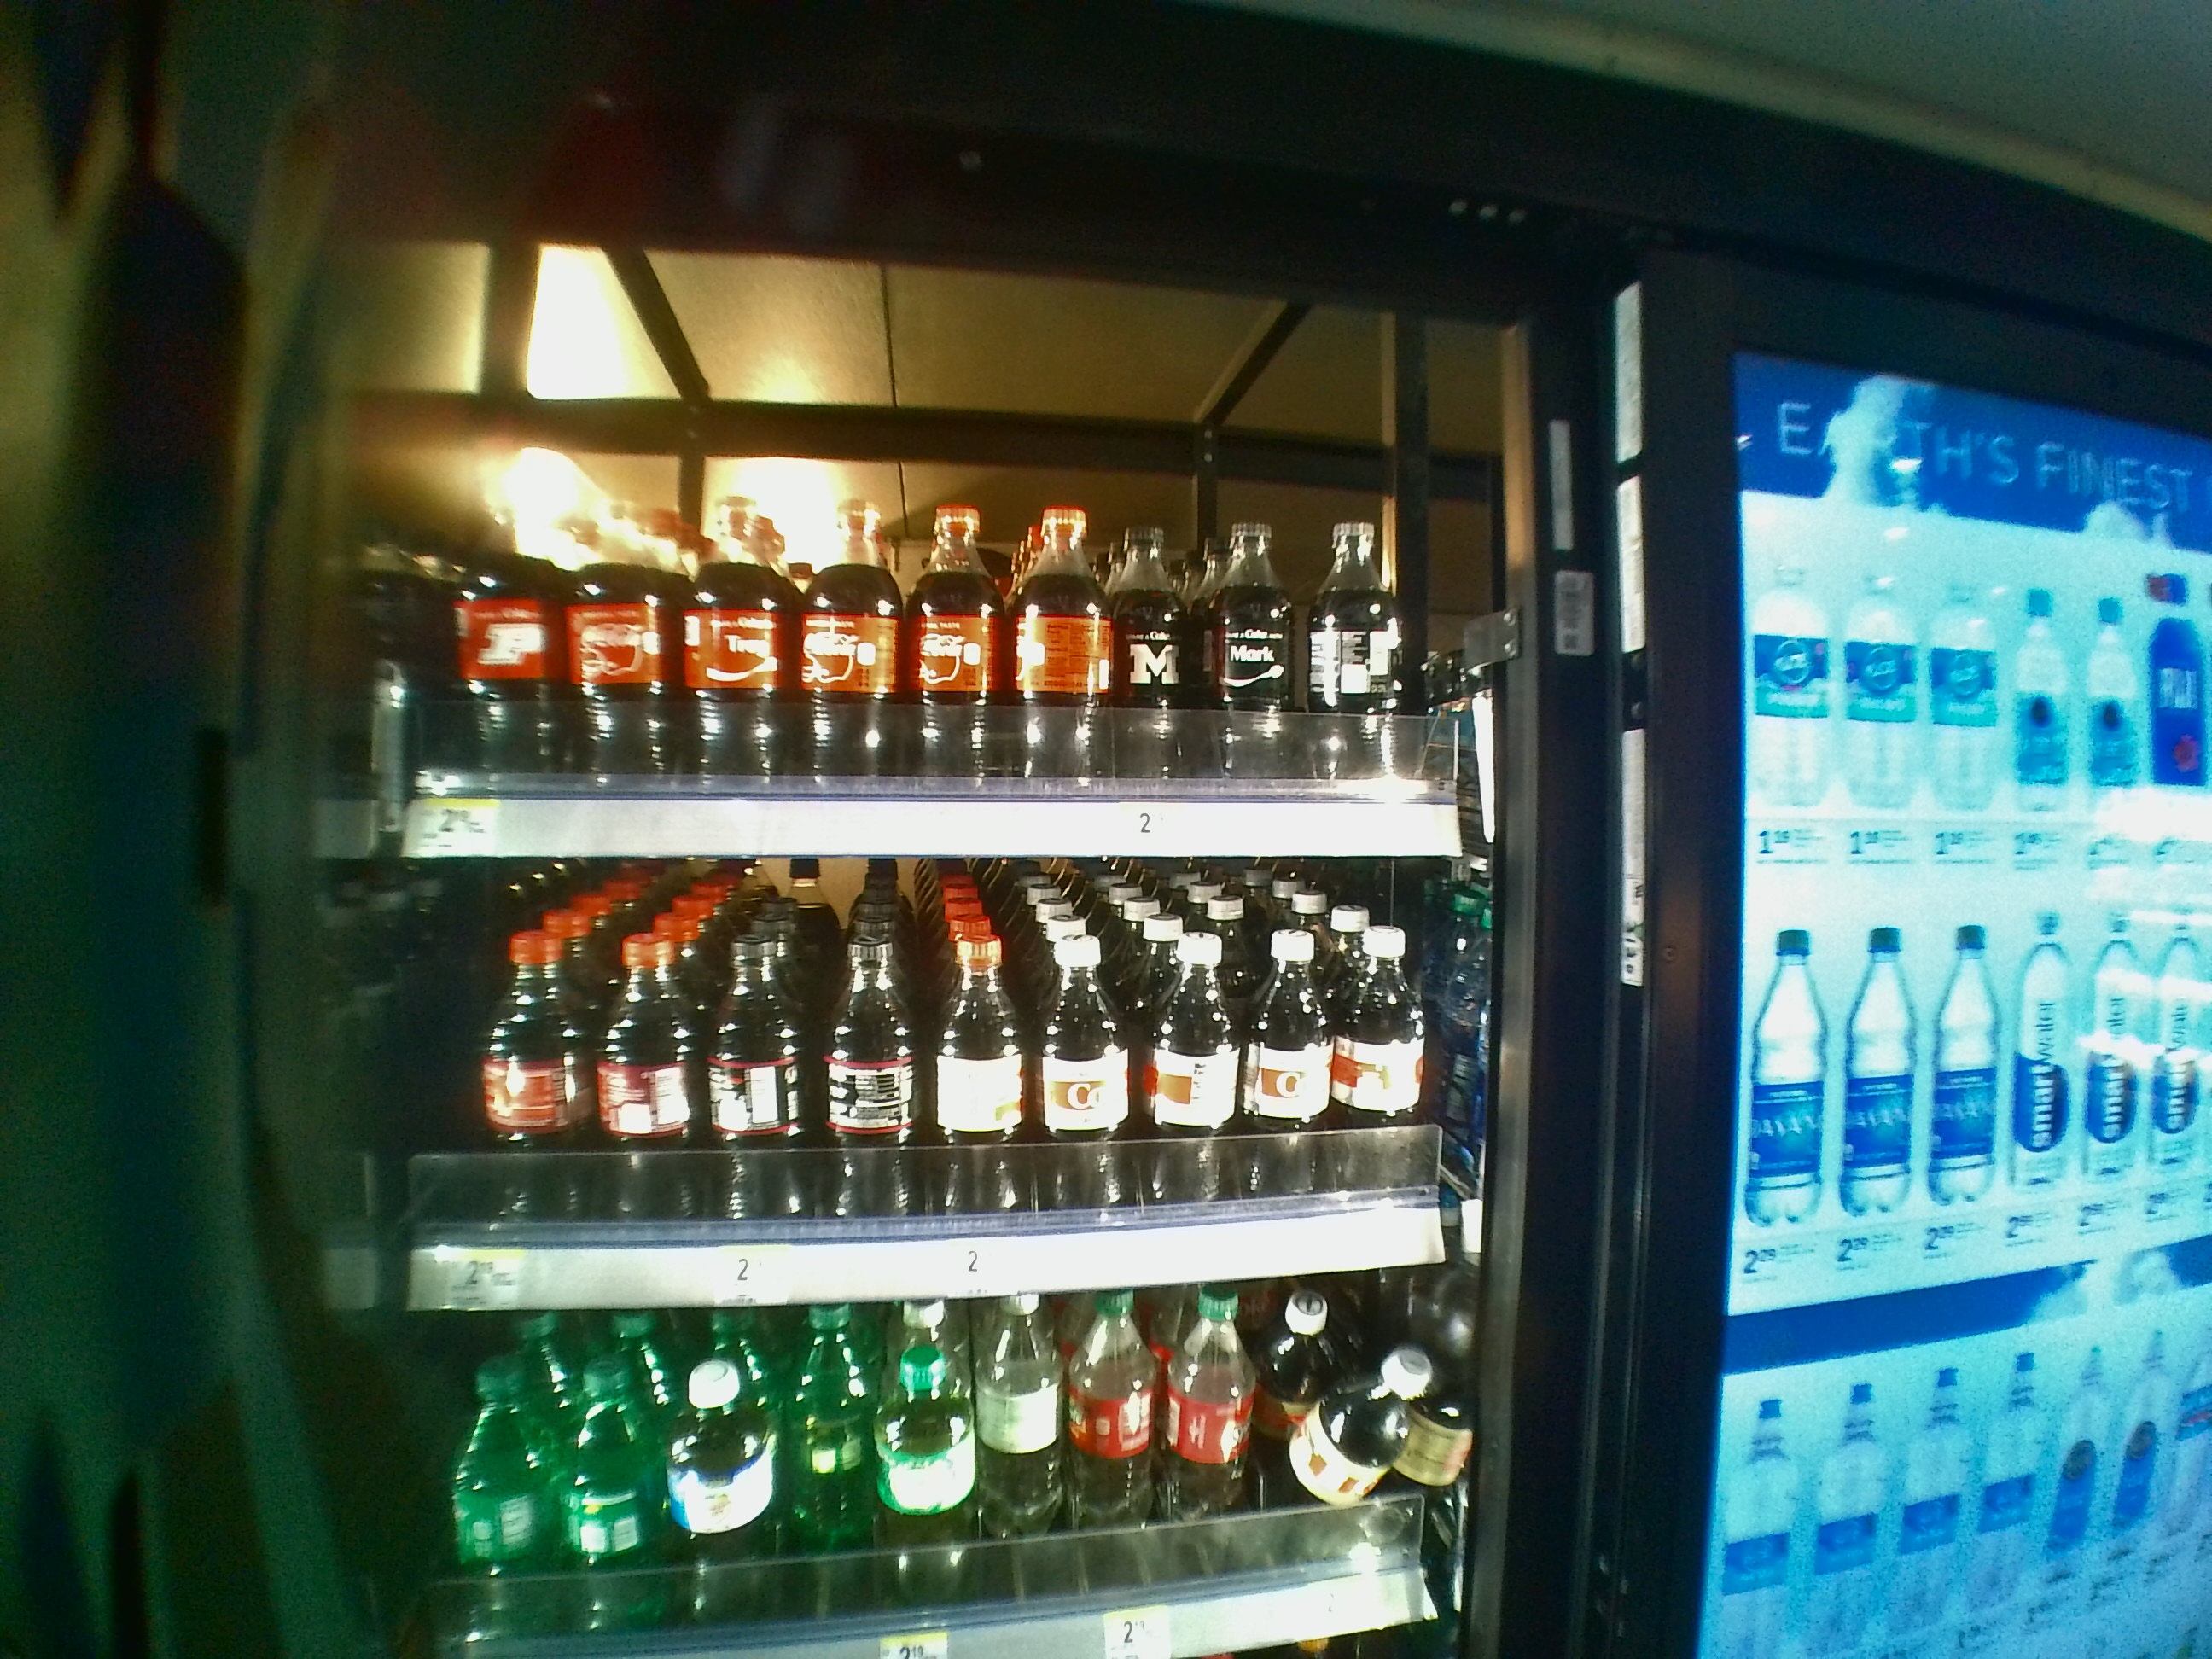shelf: (388, 239, 1514, 868), (392, 870, 1503, 1319)
